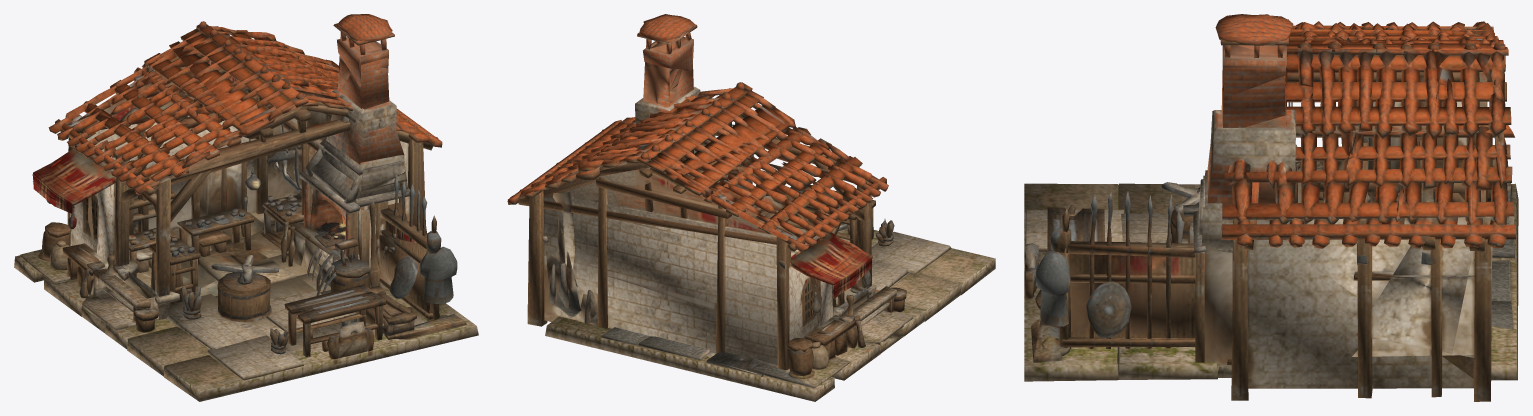
Rendered from Meshy_AI_model.glb.
3 renders of one model, left to right at view 1: azimuth 30°, elevation 25°; view 2: azimuth 150°, elevation 25°; view 3: azimuth 270°, elevation 25°, orthographic. The views are drawn at different scales.
Size of the model in its own units: 1 by 0.7754 by 1.
Materials: 1 (1 with a texture image).
